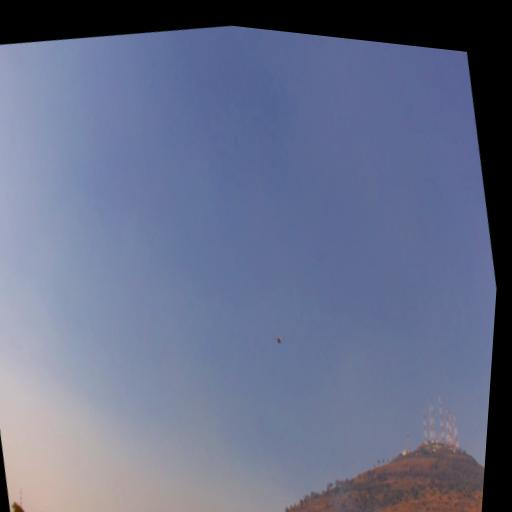drones: (273, 335, 285, 346)
